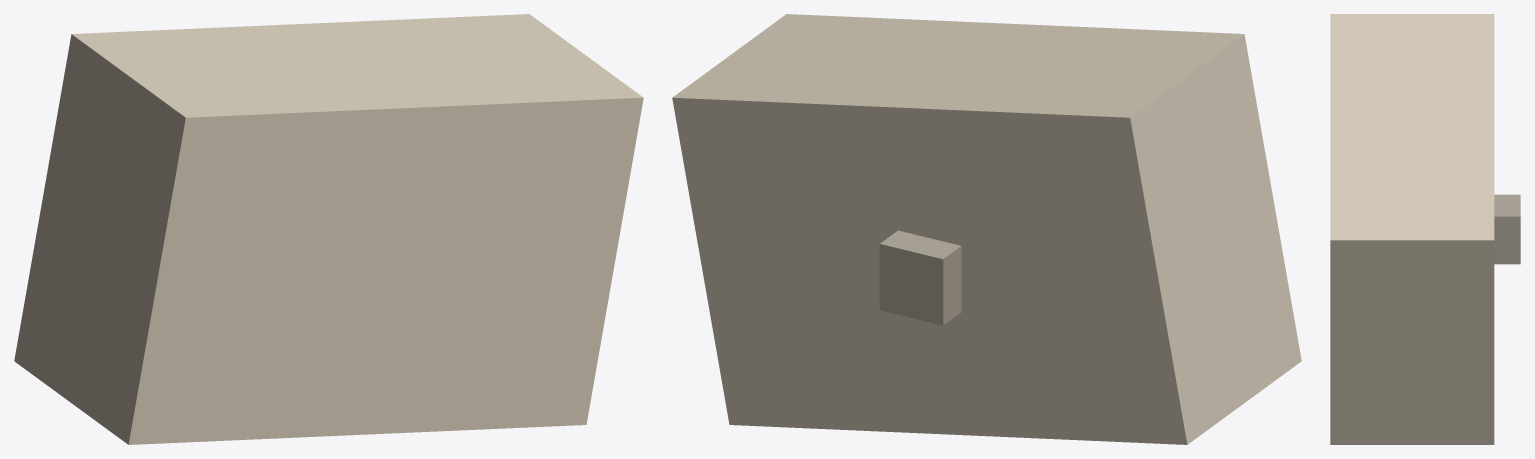
File: historic-palestine-09_18_3506_3122.glb
3 renders of one model, left to right at view 1: azimuth 30°, elevation 25°; view 2: azimuth 150°, elevation 25°; view 3: azimuth 270°, elevation 25°, orthographic. The views are drawn at different scales.
Parts seen in each view (by area): view 1: Building_; view 2: Building_, Roof access hut; view 3: Building_, Roof access hut.
Part boxes in pixels (x1=…): Building_: x1=14, y1=14, x2=643, y2=444; Building_: x1=672, y1=14, x2=1301, y2=444; Roof access hut: x1=879, y1=230, x2=961, y2=325; Building_: x1=1330, y1=14, x2=1494, y2=444; Roof access hut: x1=1494, y1=194, x2=1520, y2=264.
Bounding box in the file's own units: 19.5 × 14.65 × 8.7.
